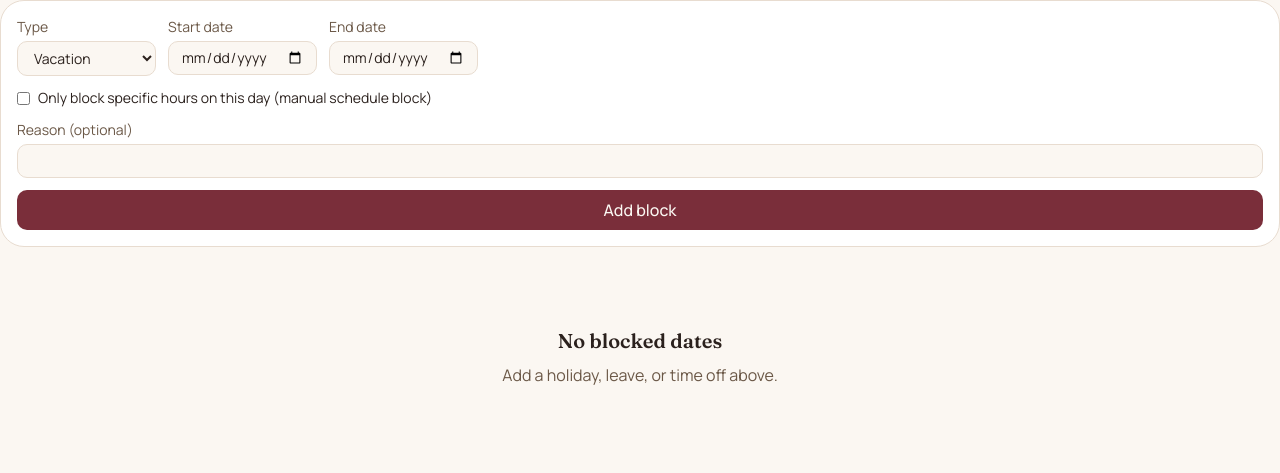
BlocksSection › reveals time fields when the manual-block checkbox is checked
Expected: the heading "No blocked dates" is shown, [558,327,722,355]
Expected: the text "From" is not shown
Click the checkbox labelled "Only block specific hours on this day".
click(24, 98)  # box [17,92,30,104]
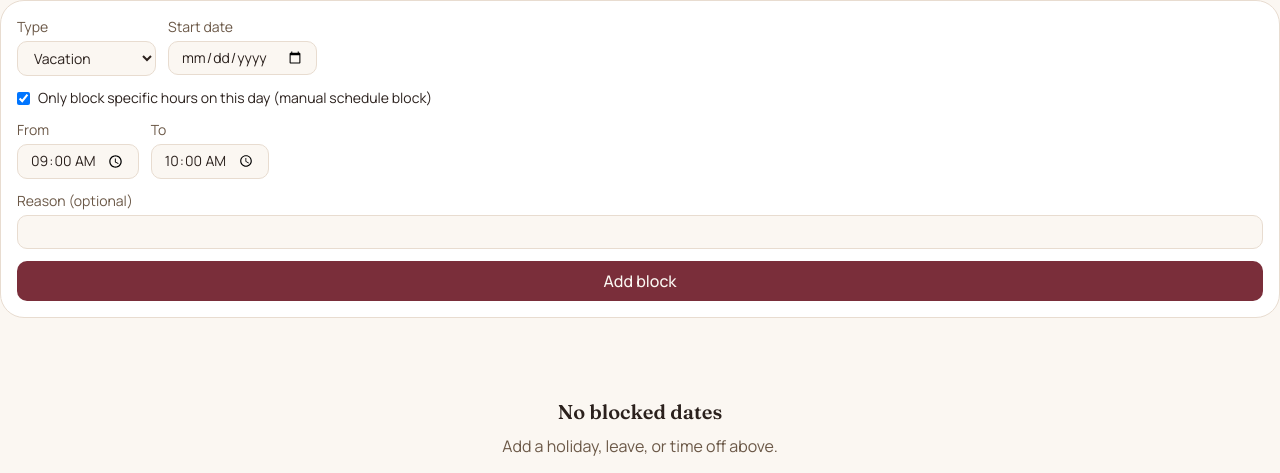
Result: the text "From" is shown at [17,120,49,139]
